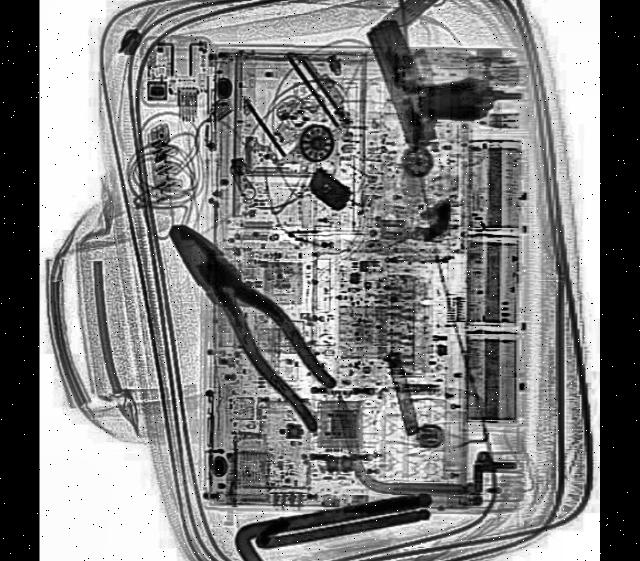Gun: (367, 0, 504, 159)
Pliers: (158, 202, 351, 442)
